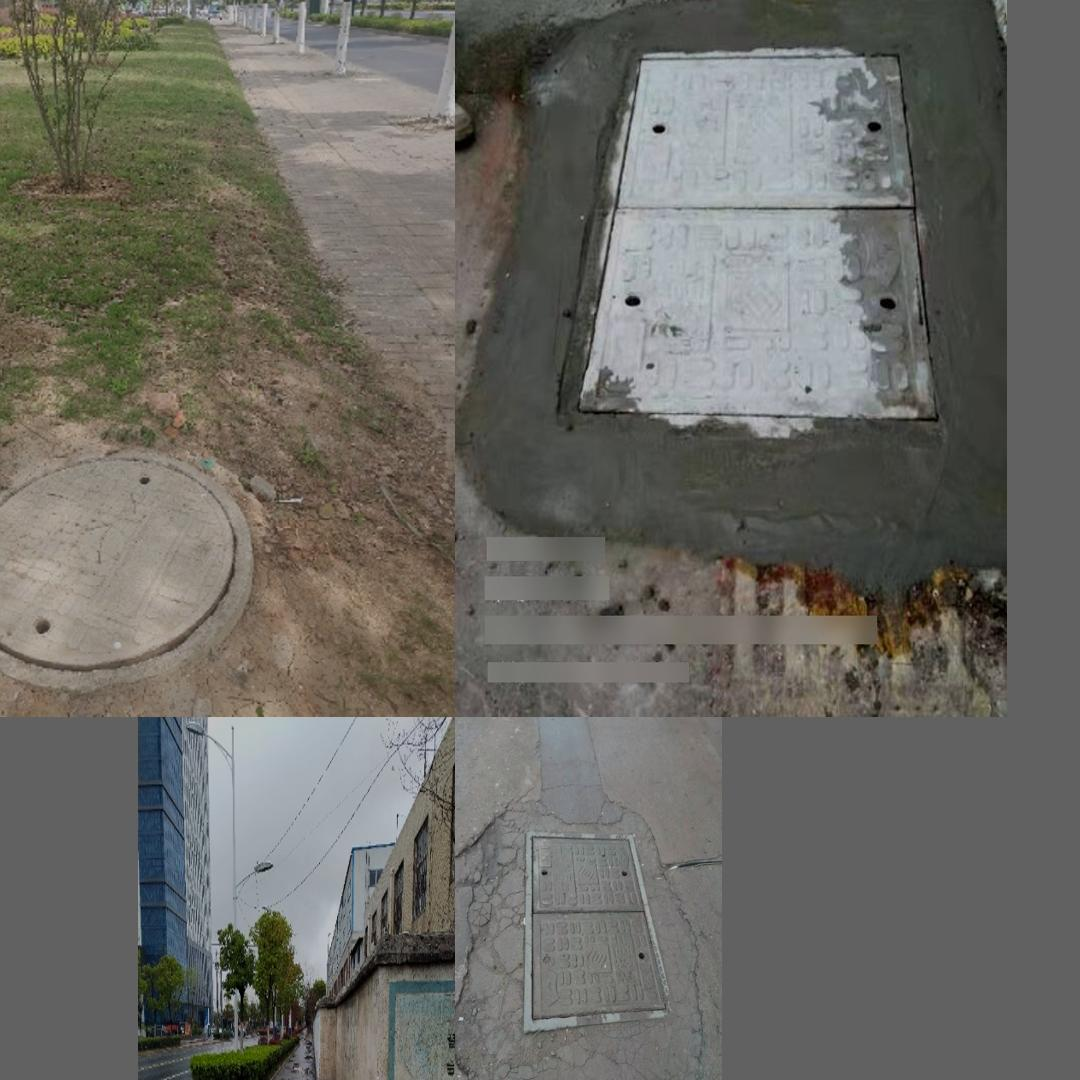good: (557, 47, 944, 433), (0, 444, 252, 695), (525, 832, 668, 1016)
